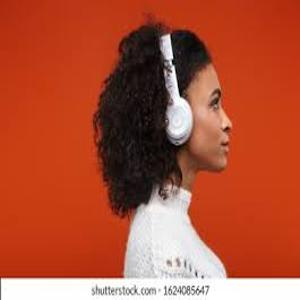Headphones: (150, 28, 196, 147)
